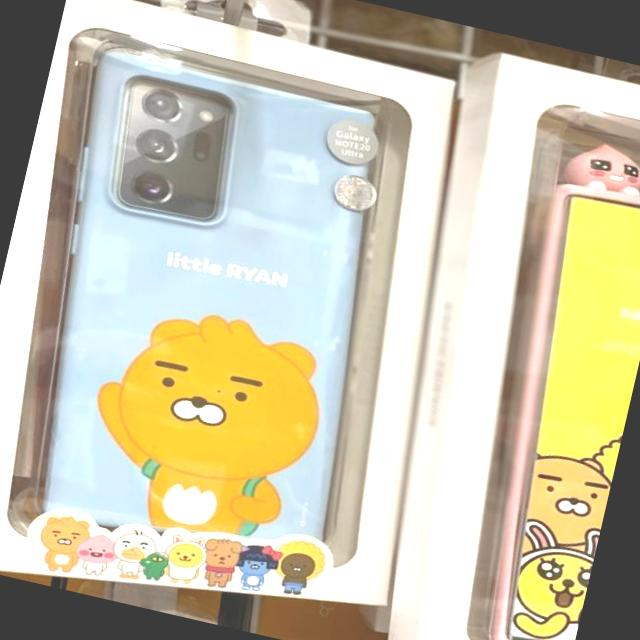lens_back: (135, 80, 187, 128), (130, 122, 182, 168), (126, 166, 180, 210)
phone: (0, 44, 422, 578)
